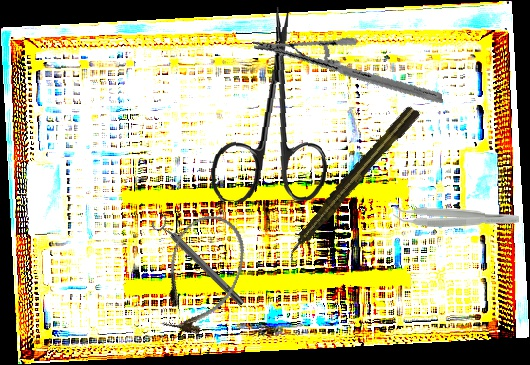Cannula: (147, 205, 257, 345)
Fixation Ring: (149, 211, 249, 312)
Handpiece: (279, 102, 423, 264)
Iris Scissors: (209, 3, 338, 208)
Needle Holder: (252, 1, 444, 142)
Tissue Forceps: (392, 203, 520, 229)
